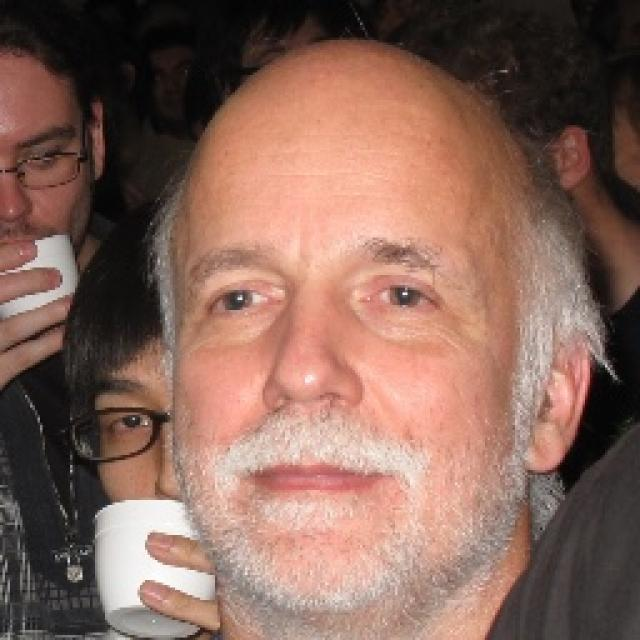earlobe: (526, 338, 590, 473), (558, 124, 592, 192)
